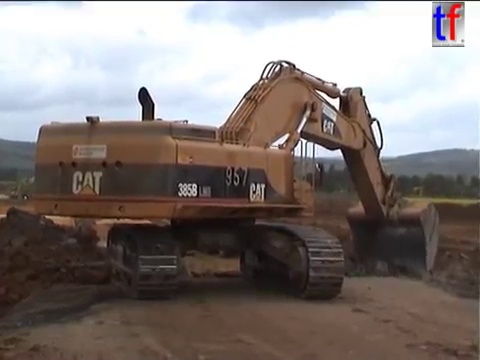excavator: (27, 55, 445, 305)
truck: (1, 209, 149, 329), (86, 215, 179, 288)
